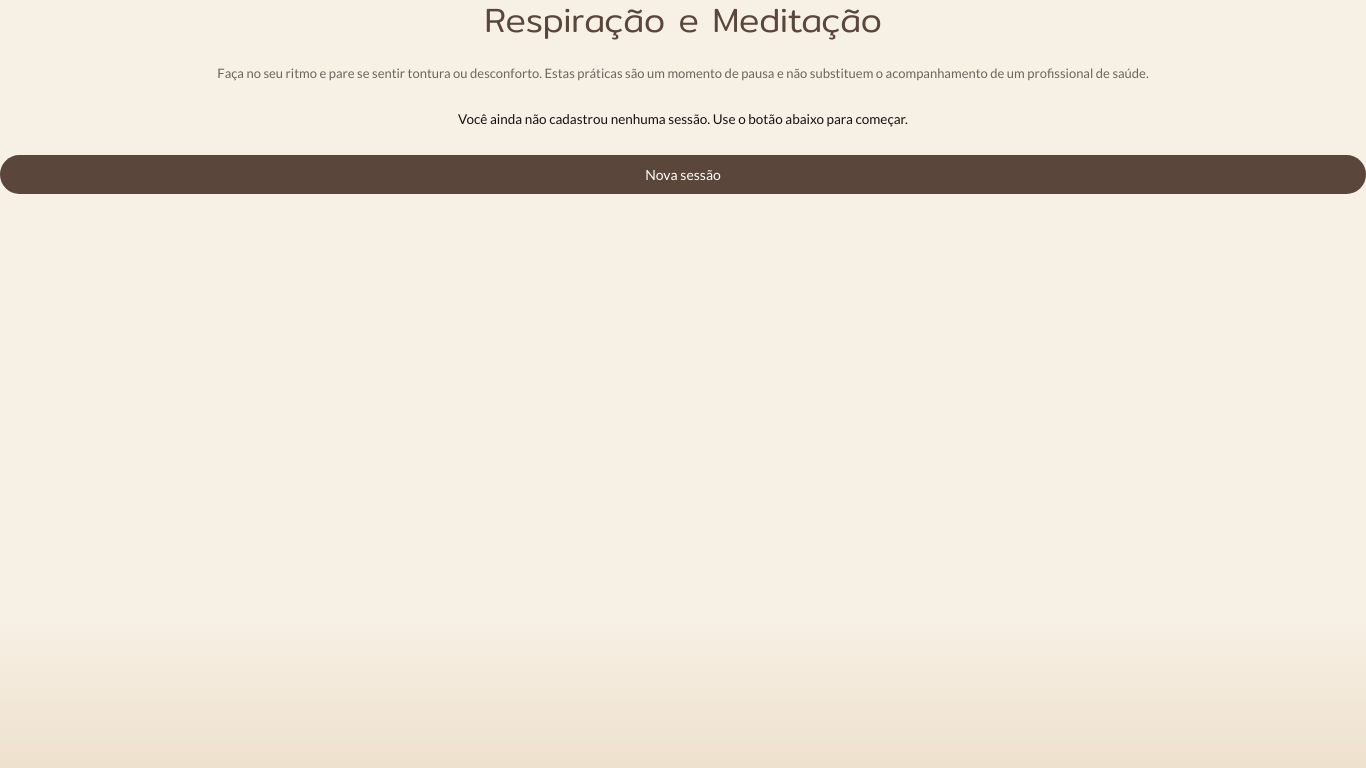
Scenario: BreathingPage — Respiração e Meditação › recusa áudio sem https e duração fora do aceitável
Click the button "Nova sessão": (683, 174) [0,154,1365,194]
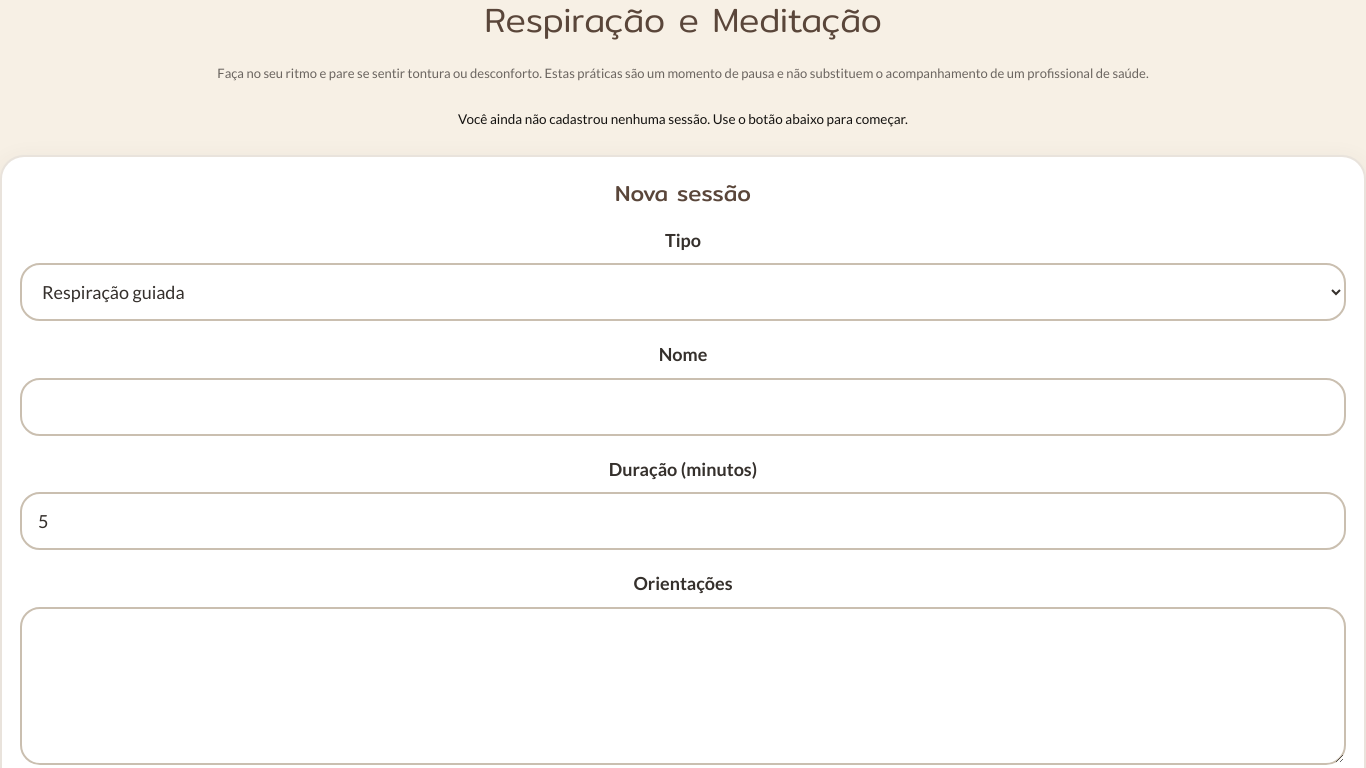
In the field labelled "Nome": (683, 407) [20,378,1346,436], type "X"
(page scrolled)
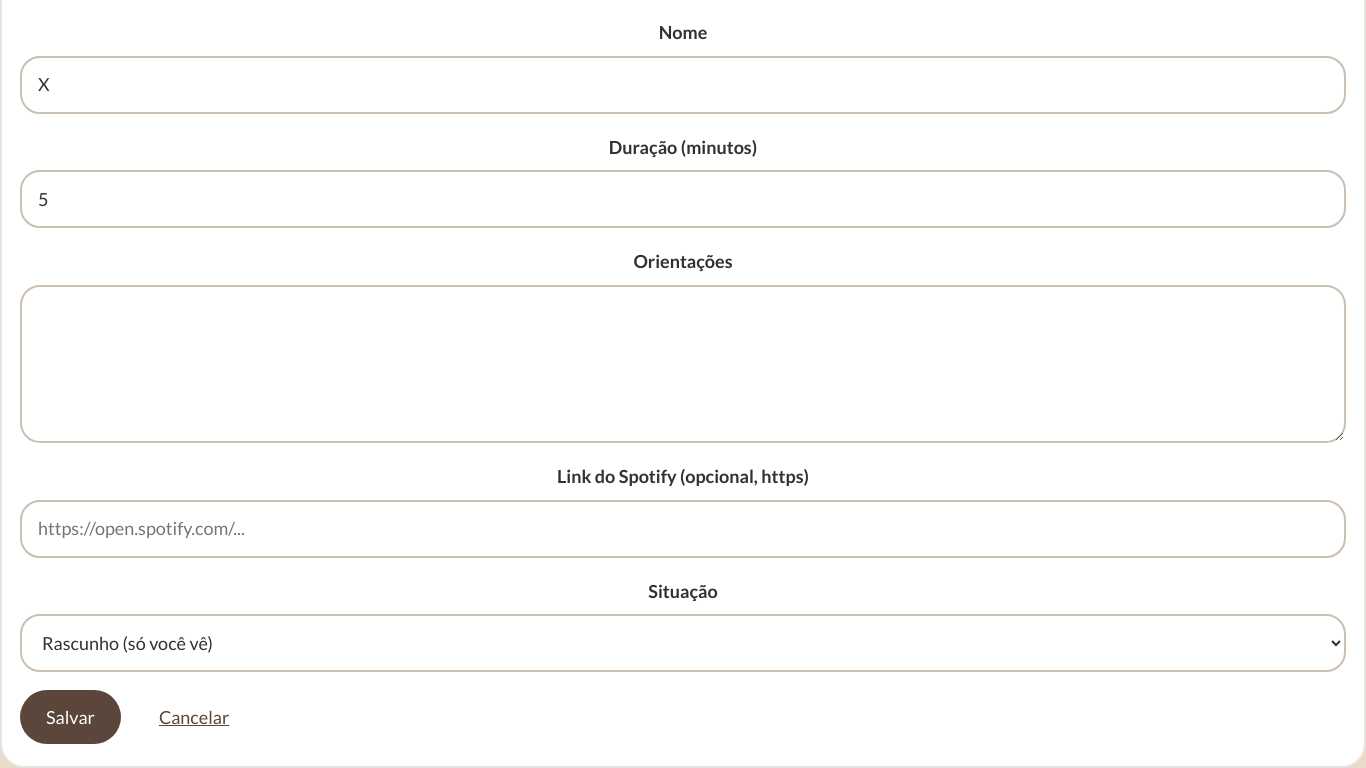
In the field labelled "Link do Spotify (opcional, https)": (683, 529) [20,500,1346,558], type "http://exemplo.com/x.mp3"
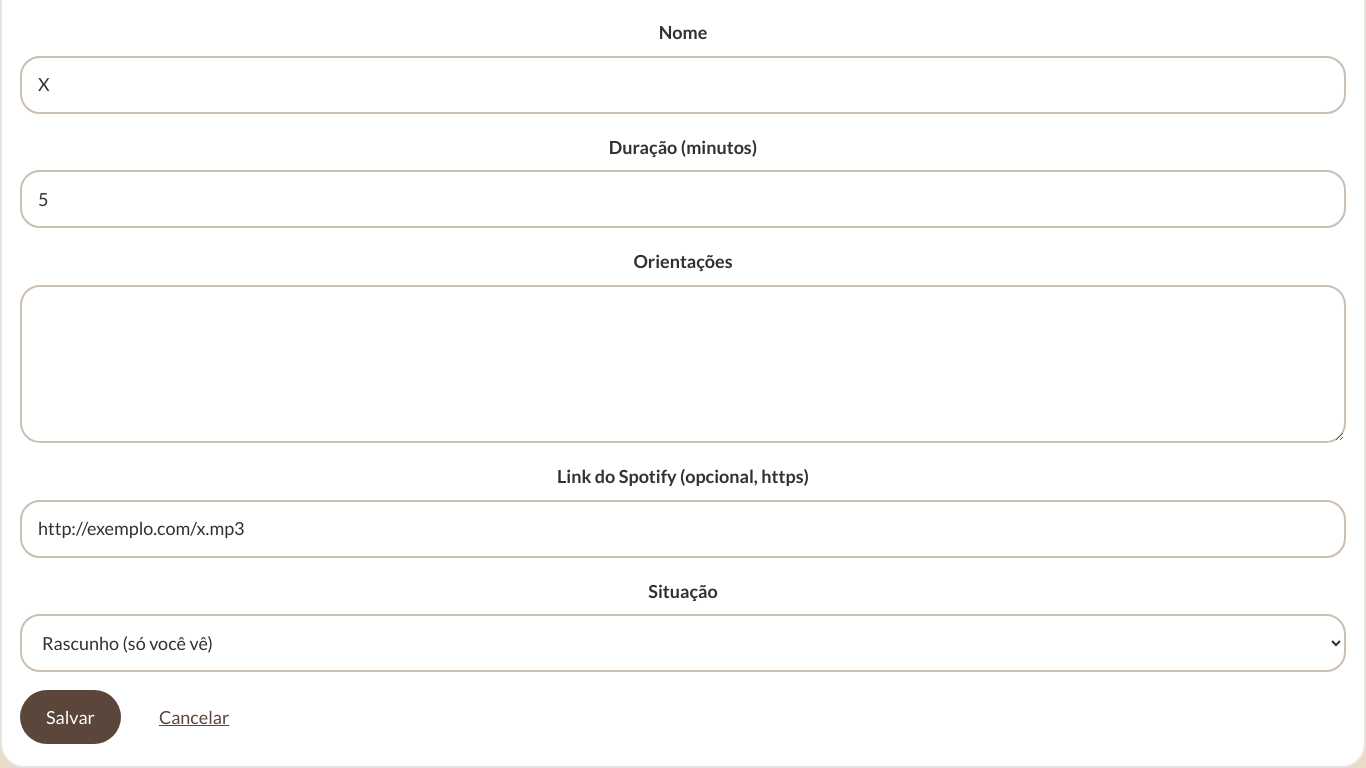
Click the button "Salvar": (70, 717) [20,690,121,744]
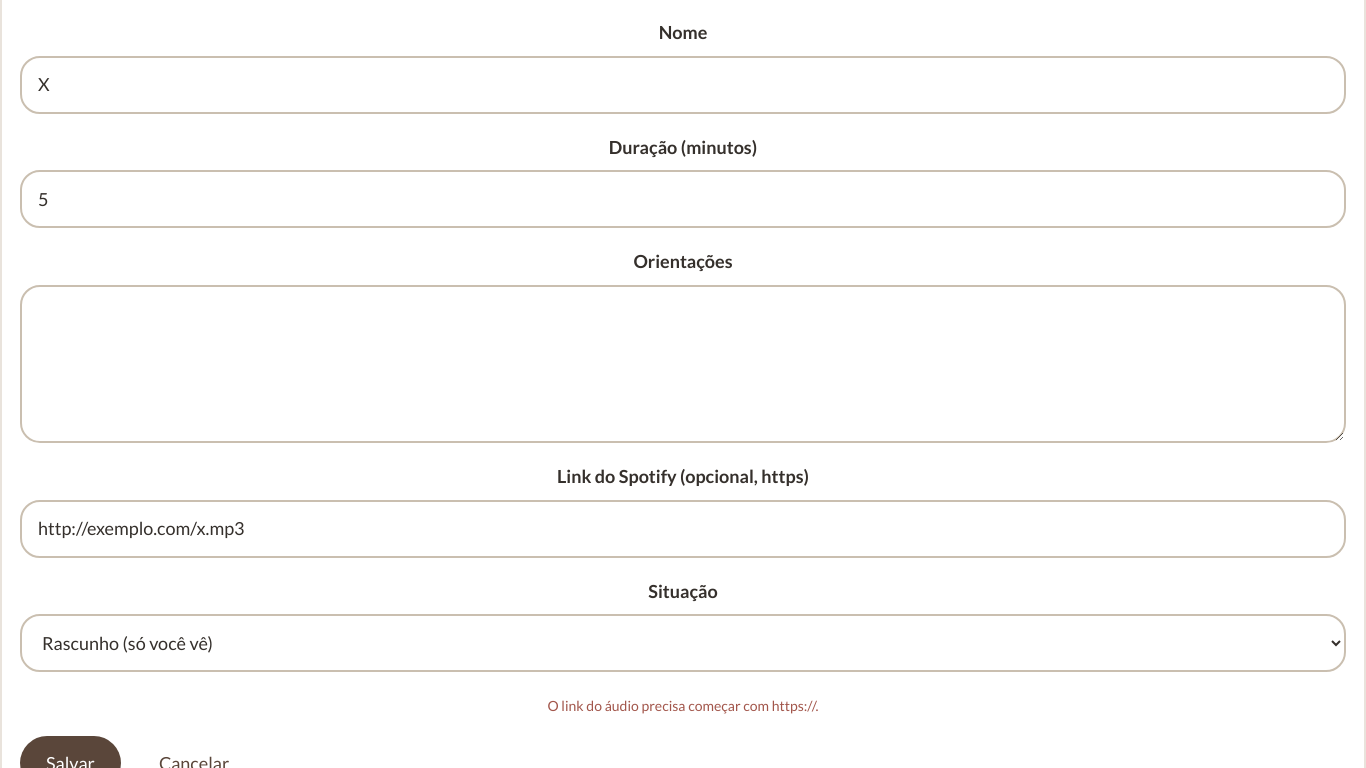
Result: the text "O link do áudio precisa começar com https://." is shown at [548,697,818,714]
Replace the text in the field labelled "Duração (minutos)" with "500": (683, 200) [20,170,1346,228]
(page scrolled)
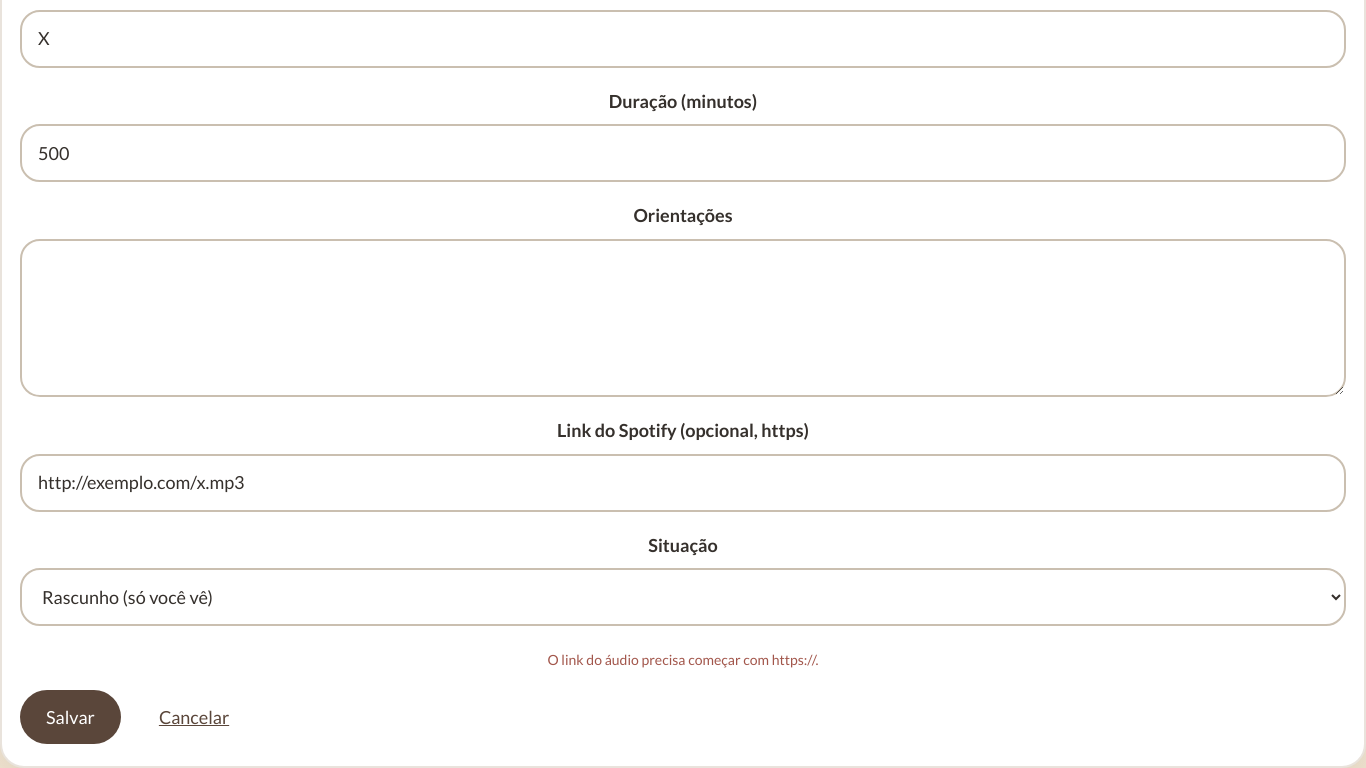
Click the button "Salvar": (70, 717) [20,690,121,744]
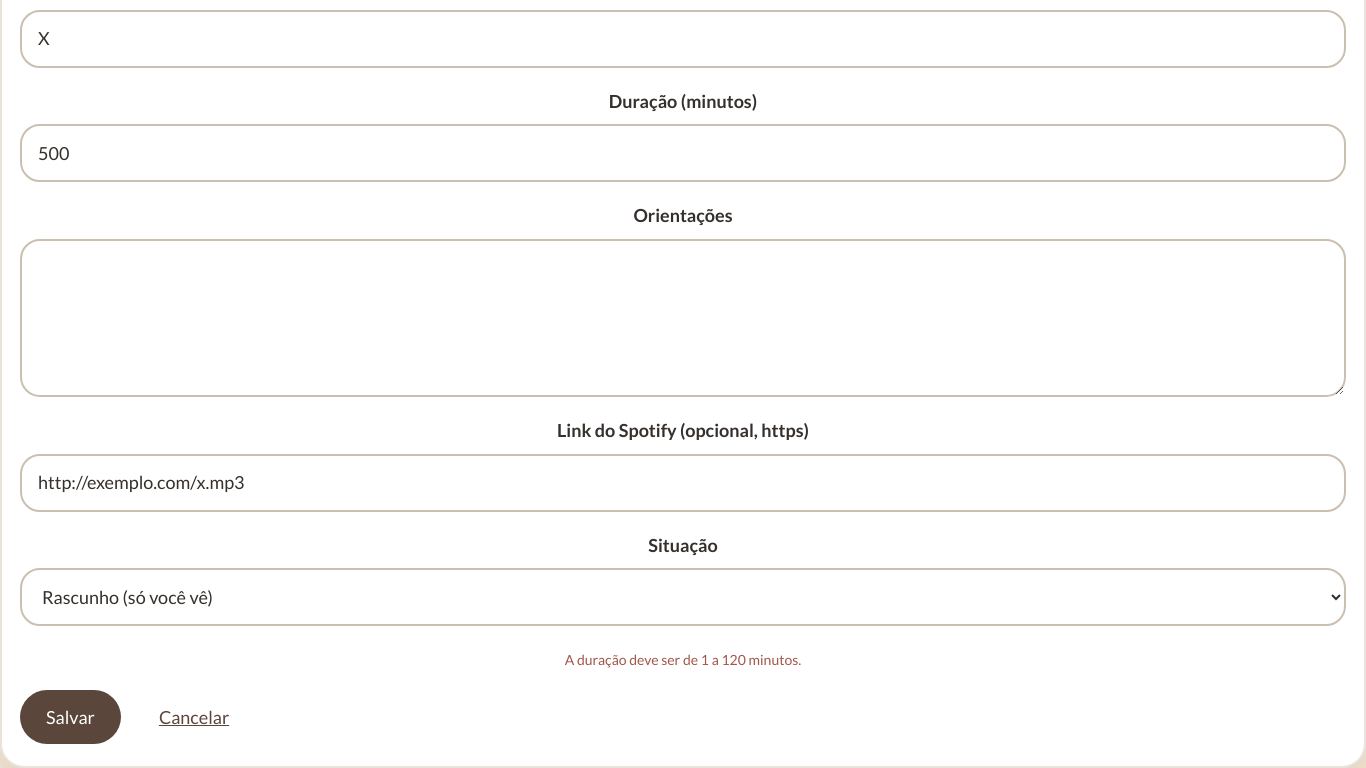
Result: the text "A duração deve ser de 1 a 120 minutos." is shown at [565,651,801,668]
